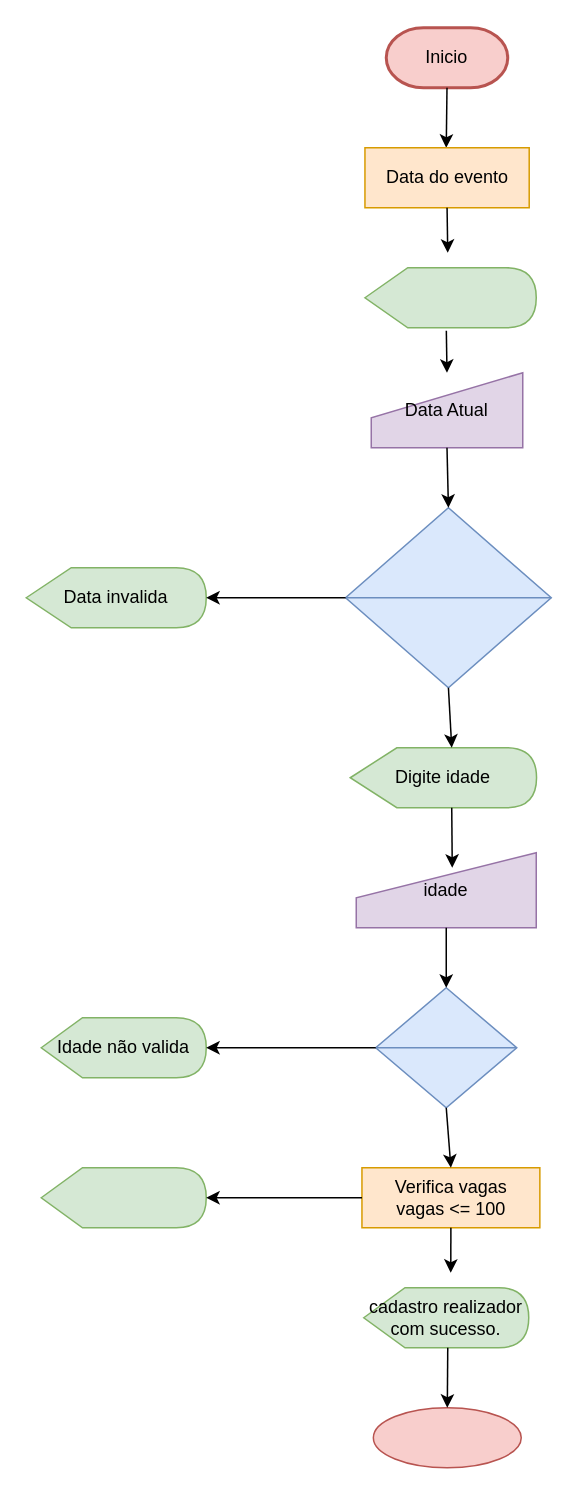
Some shapes in this 578 by 1494 pixel diagram are drawn without their labels. Each missing label, with the centre of its shape:
"Compara data com data atual" belongs at point (447, 597).
"Digite Data Atual:" belongs at point (449, 297).
"fim" belongs at point (446, 1437).
"Idade >= 18" belongs at point (445, 1047).
"não a mais vagas" belongs at point (123, 1197).
